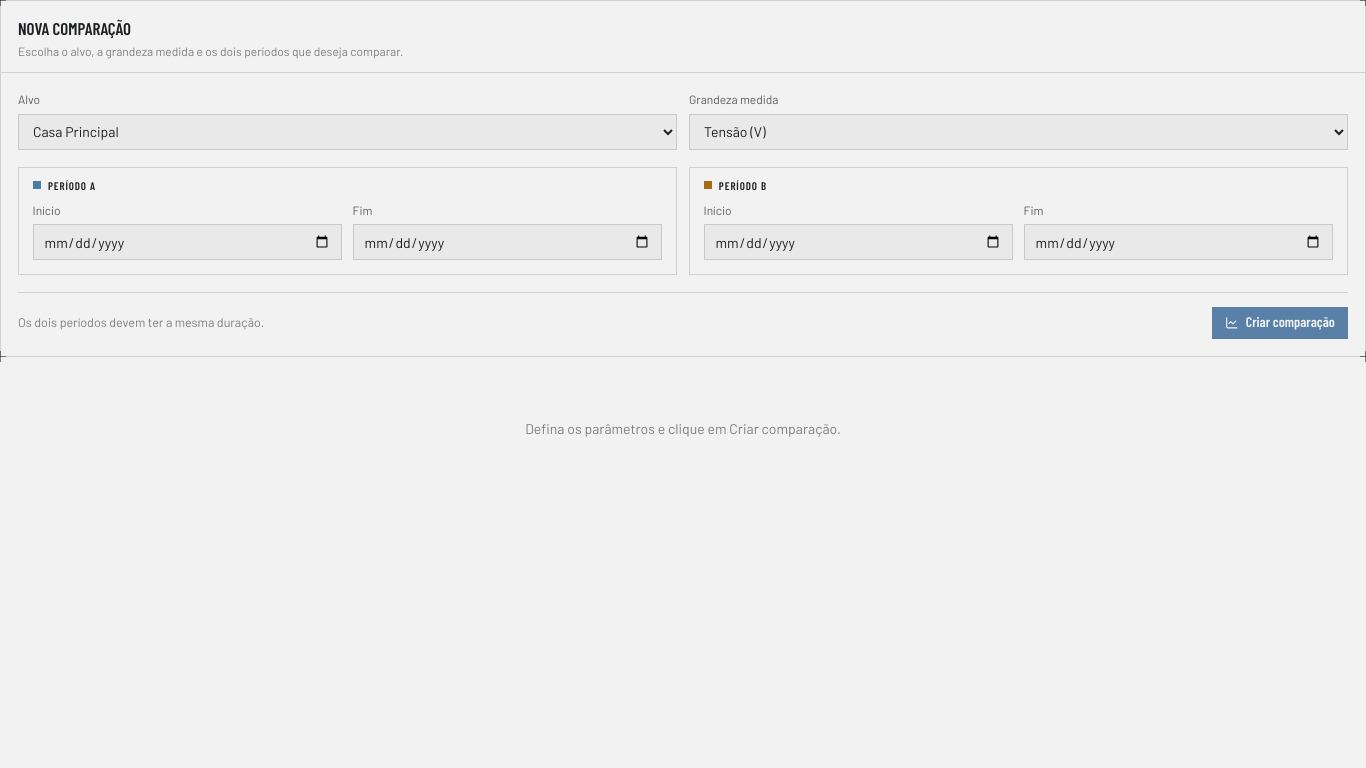
Test case: HistoryPage › depois de criar a comparação › busca com os instantes de São Paulo e mostra o gráfico com a legenda A/B
This screenshot has width=1366, height=768.
Expected: the dropdown labelled "Alvo" is shown, [18, 114, 677, 150]
Type "2026-01-01" into the date field labelled "Início" below "Período A". click: (188,242)
box: [33, 224, 342, 260]
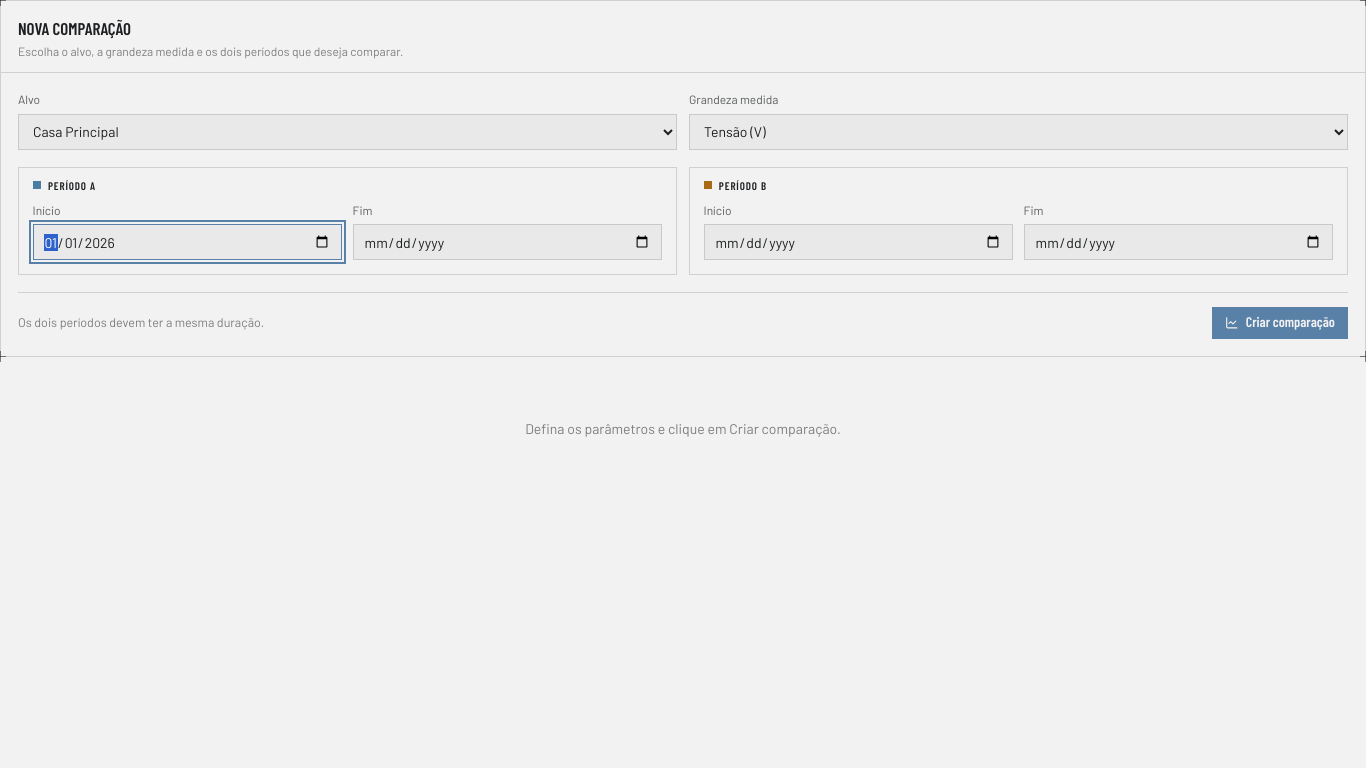
Type "2026-01-07" into the date field labelled "Fim" below "Período A". click: (508,242)
box: [353, 224, 662, 260]
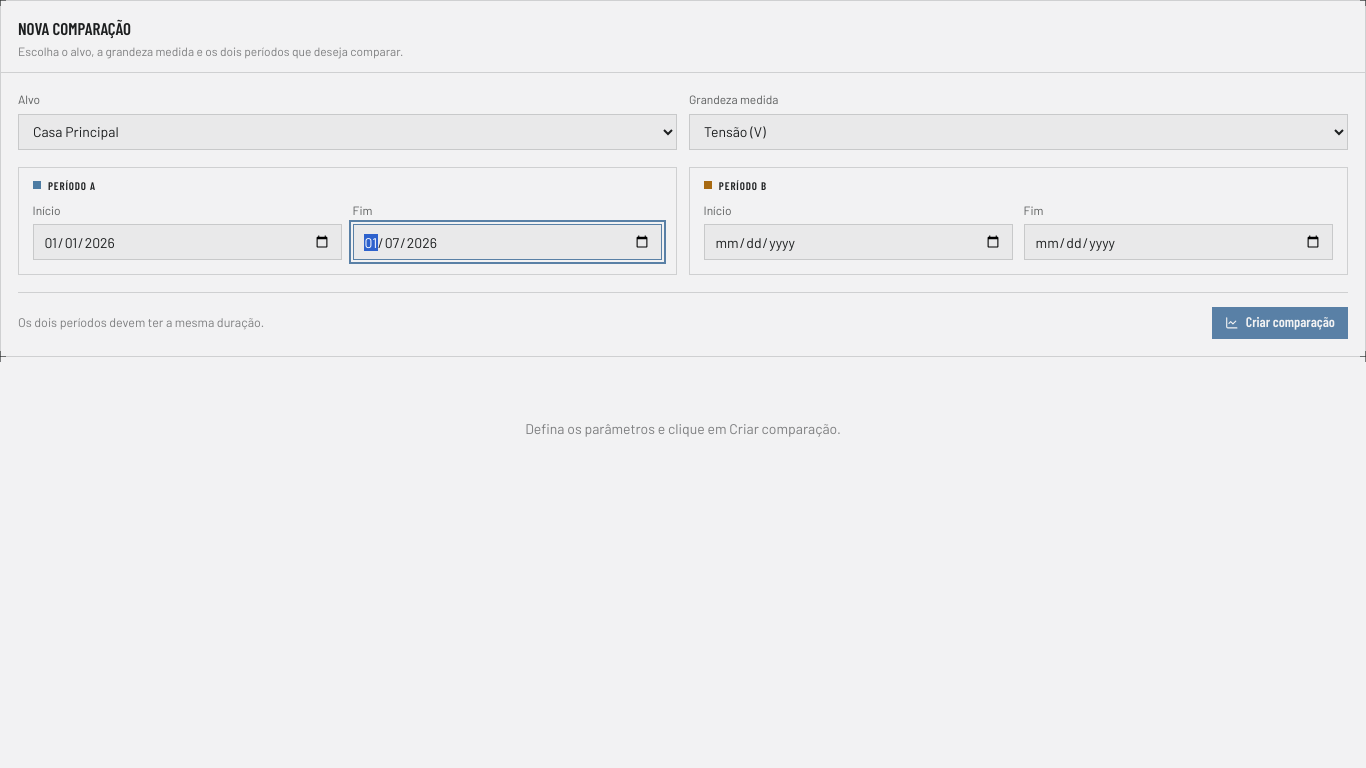
Type "2026-02-01" into the date field labelled "Início" below "Período B". click: (858,242)
box: [704, 224, 1013, 260]
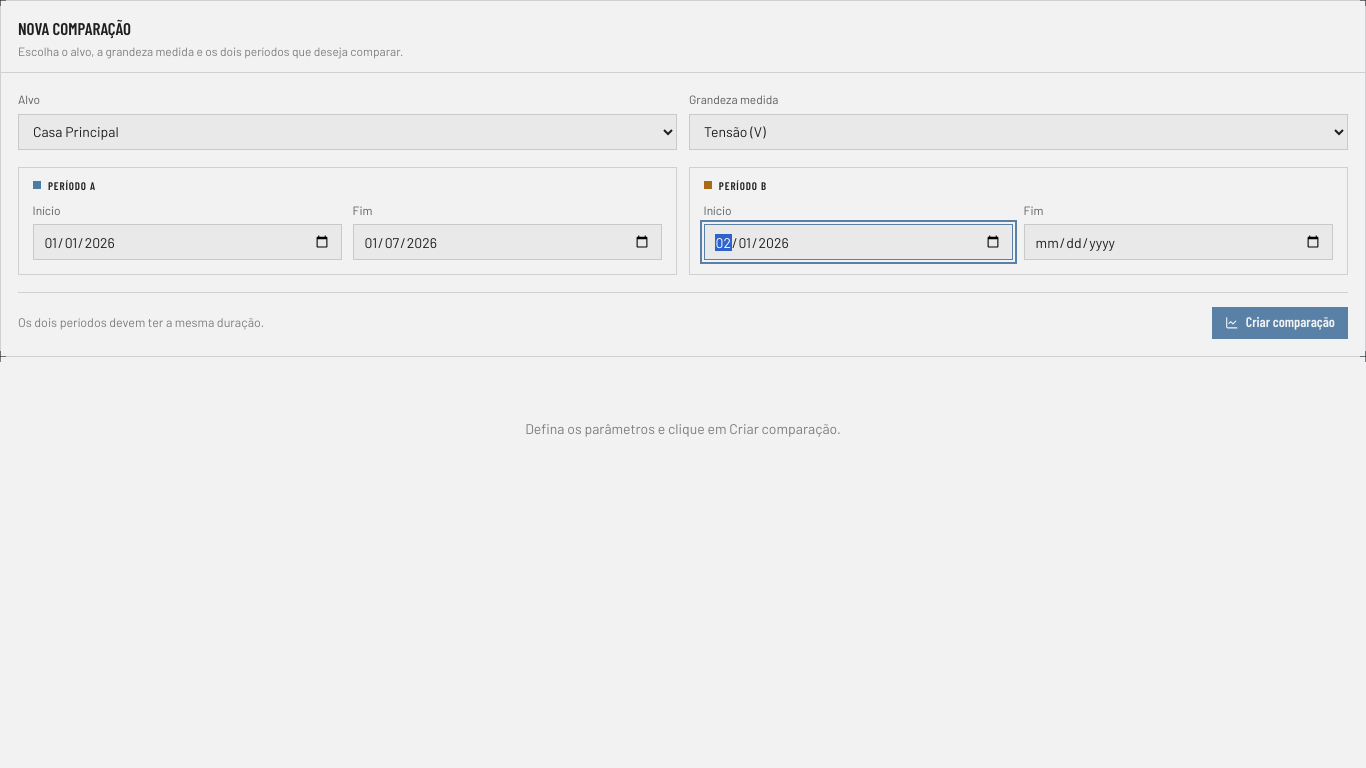
Type "2026-02-07" into the date field labelled "Fim" below "Período B". click: (1178,242)
box: [1024, 224, 1333, 260]
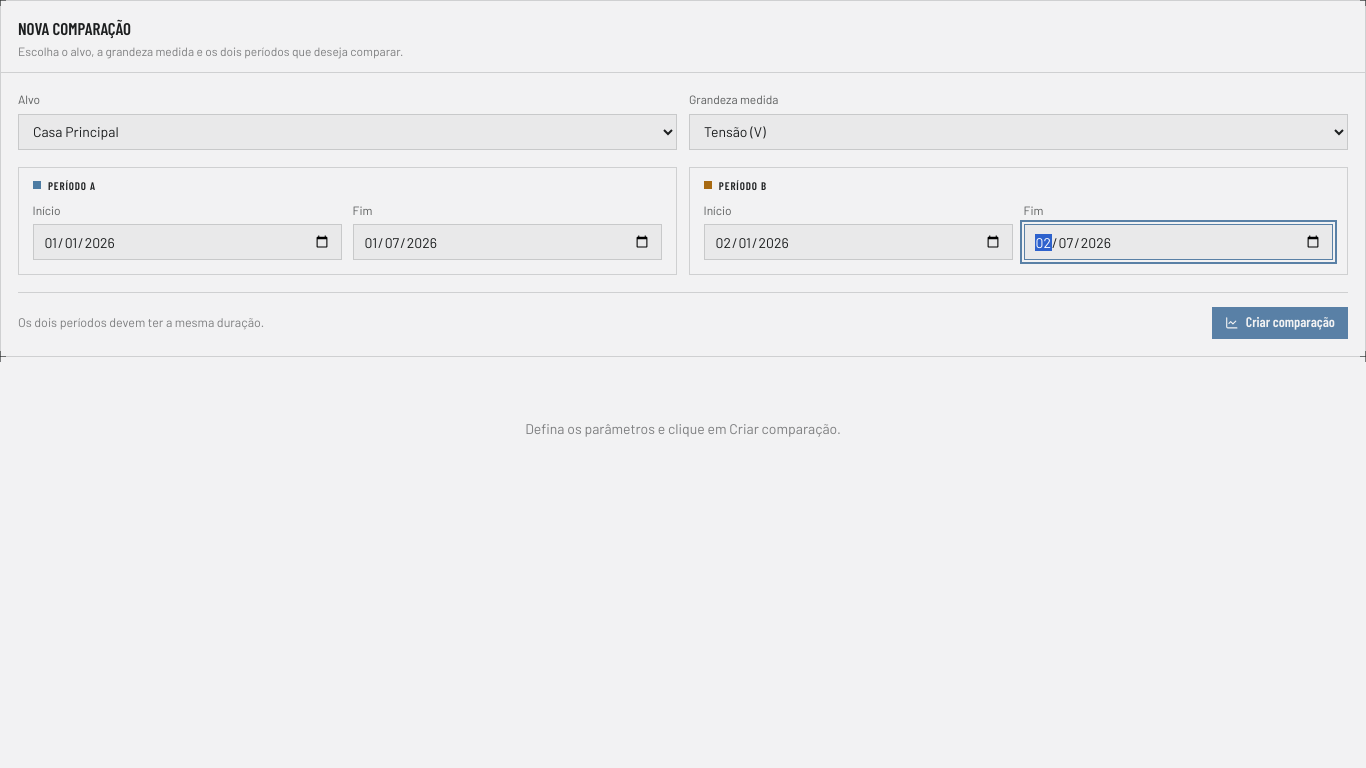
Click the button "Criar comparação". click: (1280,323)
box: [1212, 307, 1348, 339]
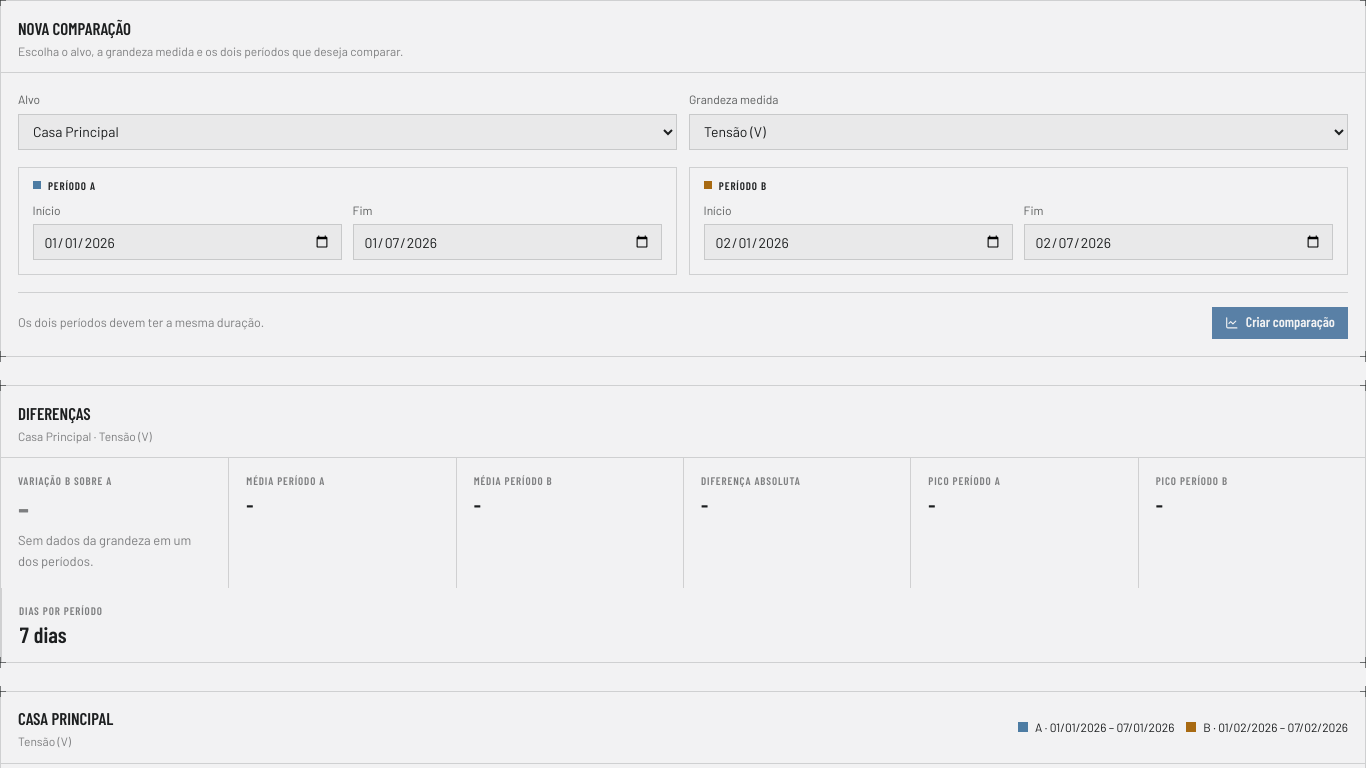
Expected: the element with test id "period-comparison-differences" is shown, [0, 385, 1365, 663]
Expected: the list item "A · 01/01/2026 – 07/01/2026" is shown, [1018, 718, 1174, 736]
Expected: the list item "B · 01/02/2026 – 07/02/2026" is shown, [1186, 718, 1348, 736]
